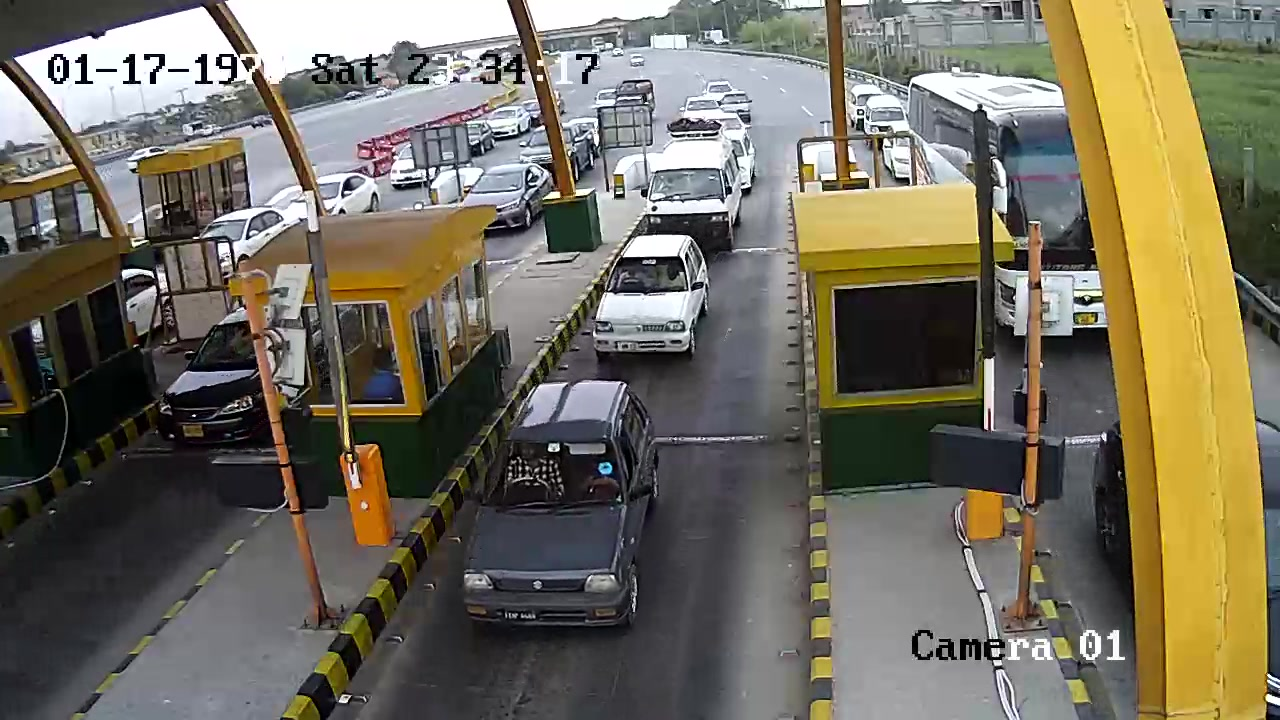F1: (458, 379, 696, 632)
